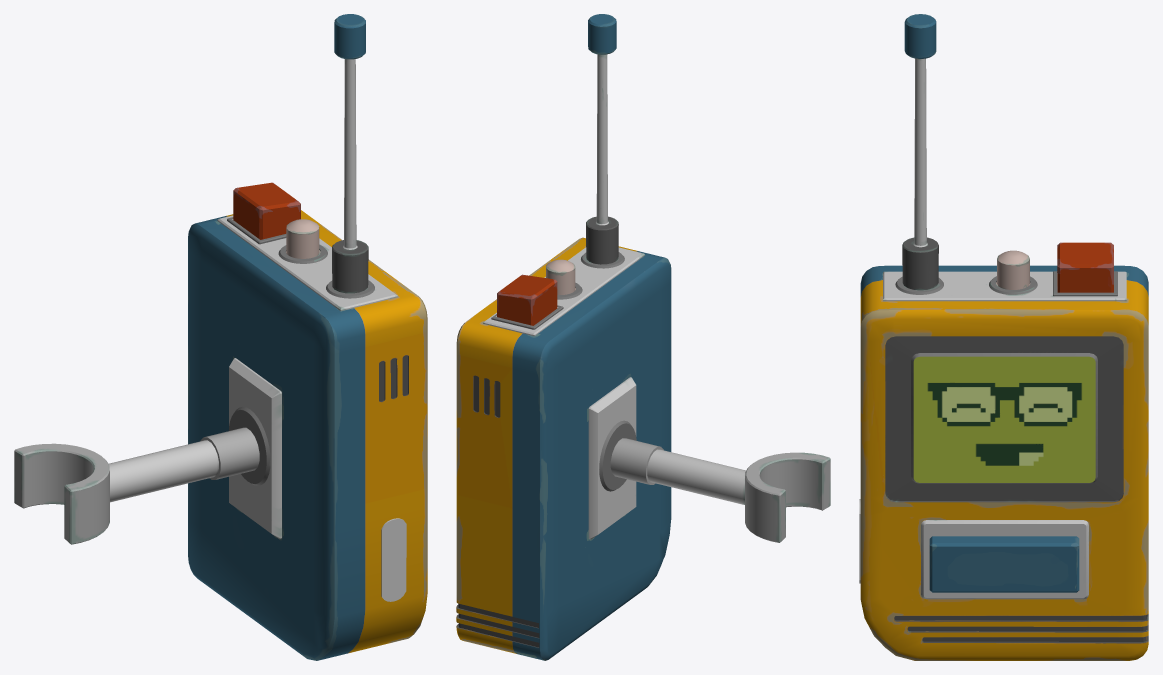
The model's file is Argo00.fbx.
3 renders of one model, left to right at view 1: azimuth 30°, elevation 25°; view 2: azimuth 150°, elevation 25°; view 3: azimuth 270°, elevation 25°, orthographic. The views are drawn at different scales.
Parts seen in each view (by area): view 1: ArgoBody, ArgoClamp, ArgoClampArm, ArgoRightButton, ArgoLeftButton; view 2: ArgoBody, ArgoClamp, ArgoClampArm, ArgoRightButton, ArgoLeftButton; view 3: ArgoBody, ArgoScreen, ArgoFaceButton, ArgoRightButton, ArgoLeftButton.
Part boxes in pixels (x1,y1,x2,y2): ArgoBody: (188,14,427,660); ArgoClamp: (14,443,109,544); ArgoClampArm: (108,427,259,502); ArgoRightButton: (233,182,300,239); ArgoLeftButton: (286,219,319,258); ArgoBody: (456,14,671,660); ArgoClamp: (745,452,830,542); ArgoClampArm: (610,438,746,504); ArgoRightButton: (497,274,557,325); ArgoLeftButton: (546,259,575,294); ArgoBody: (859,14,1148,660); ArgoScreen: (913,356,1095,482); ArgoFaceButton: (929,536,1079,592); ArgoRightButton: (1057,242,1113,292); ArgoLeftButton: (997,250,1029,289).
Bounding box in the file's own units: 0.4452 × 0.7923 × 0.3361.
